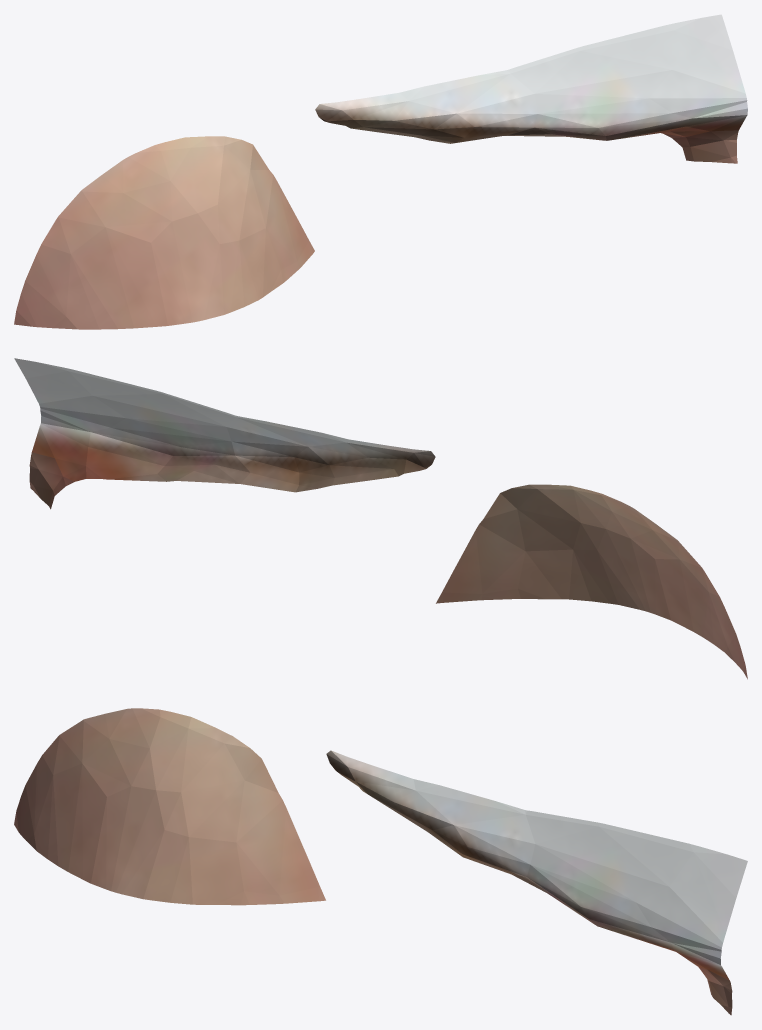
The picture shows the model from 3 angles, top to bottom: view 1: azimuth 30°, elevation 25°; view 2: azimuth 150°, elevation 25°; view 3: azimuth 330°, elevation 25°; orthographic projection. The views are drawn at different scales.
Size of the model in its own units: 96.18 by 18.96 by 10.14.
1 material, 1 textured.
